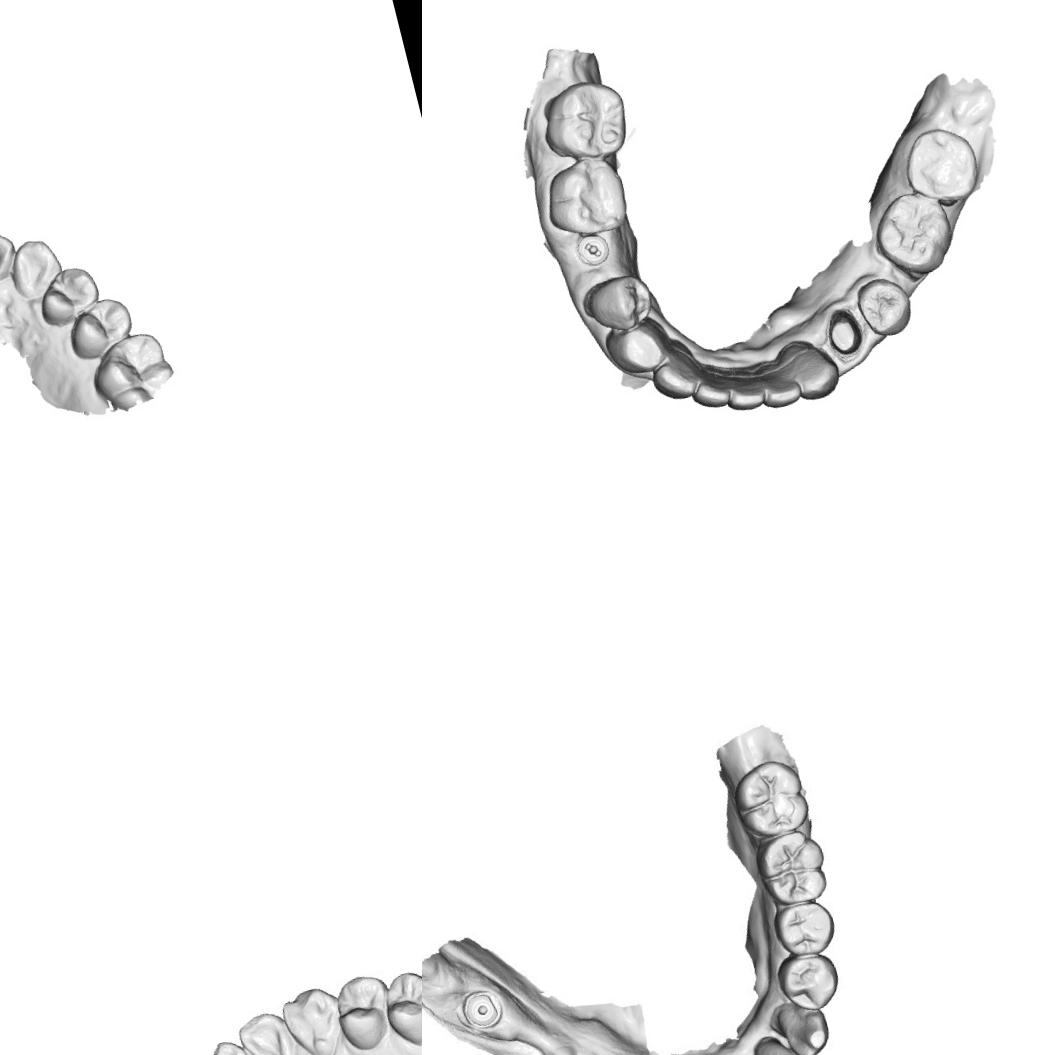canine: (0, 231, 70, 307), (599, 312, 674, 381), (276, 984, 343, 1055), (779, 337, 845, 406), (770, 990, 840, 1055)
crown: (818, 300, 870, 361)
implant: (450, 977, 512, 1038)
implant_minus: (570, 227, 617, 274)
incisor: (644, 348, 704, 410), (235, 1005, 302, 1055), (684, 358, 735, 416), (756, 358, 803, 414), (722, 366, 772, 418), (183, 1036, 266, 1055), (0, 222, 22, 287), (761, 1034, 824, 1055)
molar: (530, 70, 635, 172), (865, 181, 964, 285), (530, 150, 635, 248), (894, 117, 990, 214), (81, 325, 178, 417), (729, 753, 813, 847), (756, 830, 830, 910)
premolar: (60, 290, 141, 366), (577, 267, 659, 340), (29, 259, 108, 333), (328, 966, 396, 1050), (850, 271, 919, 343), (772, 894, 838, 958), (775, 947, 838, 1010), (377, 967, 422, 1045)
